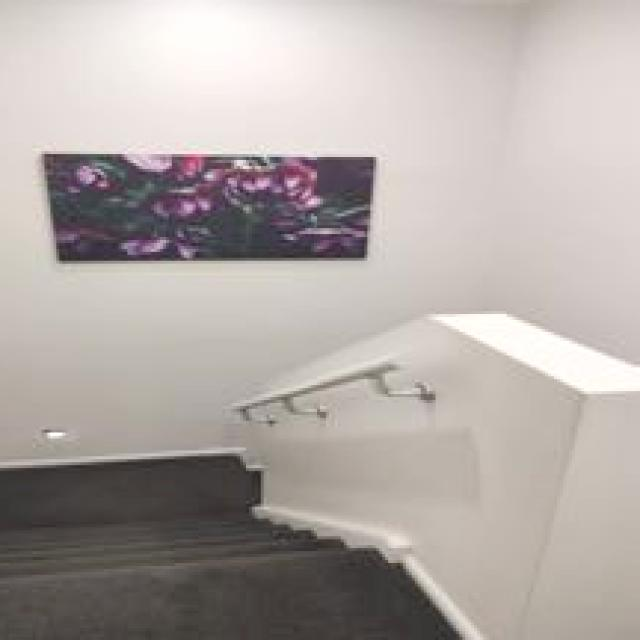downstair: (16, 505, 324, 626)
